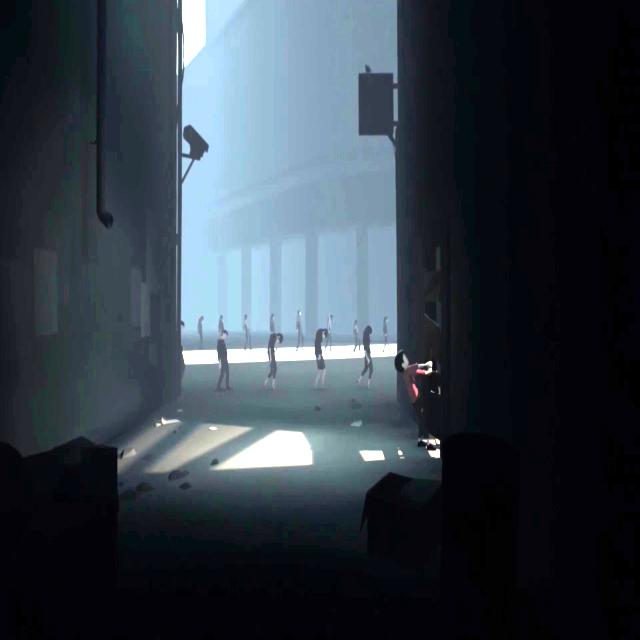boy: (396, 352, 438, 451)
zombie: (266, 333, 283, 390), (216, 328, 231, 392), (360, 324, 373, 386), (314, 329, 326, 389), (295, 310, 304, 352), (243, 314, 252, 350), (198, 315, 205, 350), (327, 314, 333, 352), (352, 322, 359, 353), (383, 316, 388, 349), (270, 313, 276, 332)
